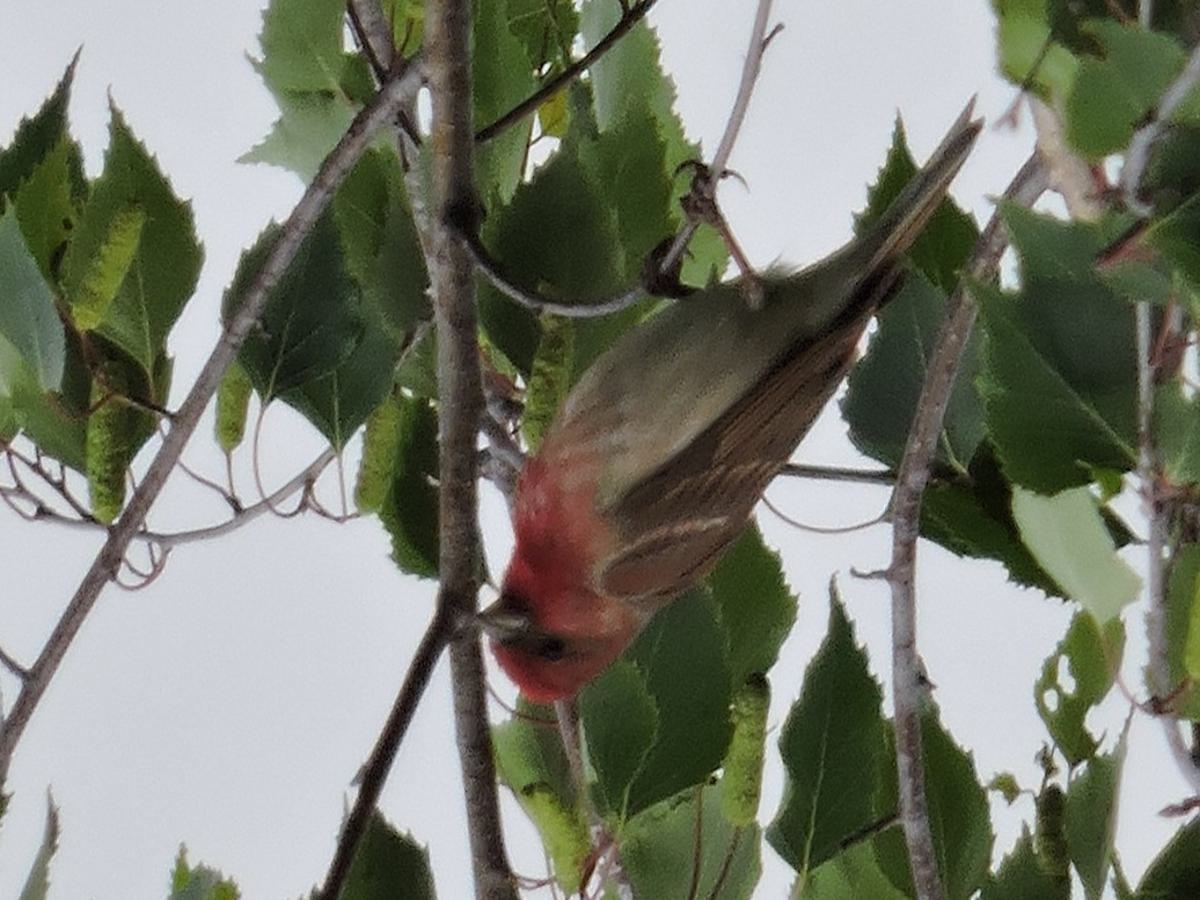rosefinch: (446, 126, 991, 718)
